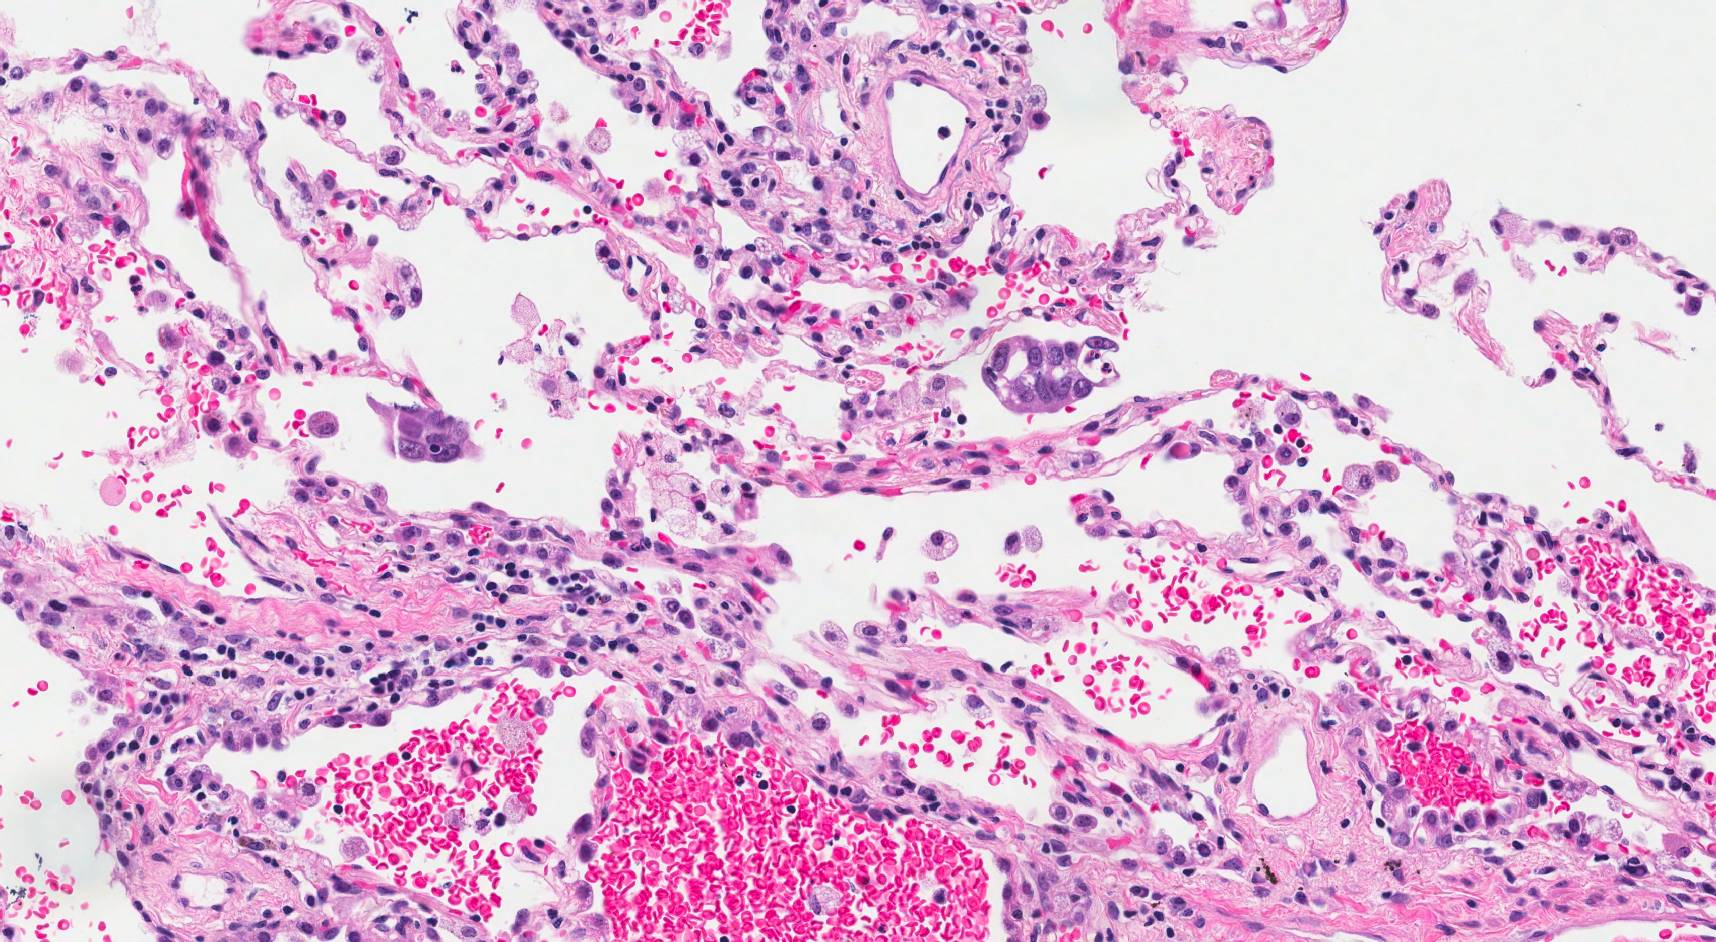stas: (982, 333, 1121, 413), (365, 392, 485, 463)
